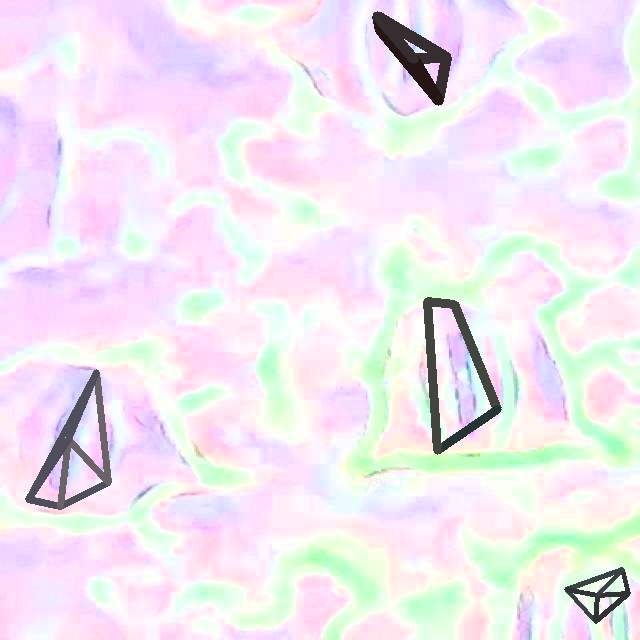open: (25, 369, 111, 509), (423, 300, 501, 454), (376, 12, 450, 104), (564, 567, 630, 623)
